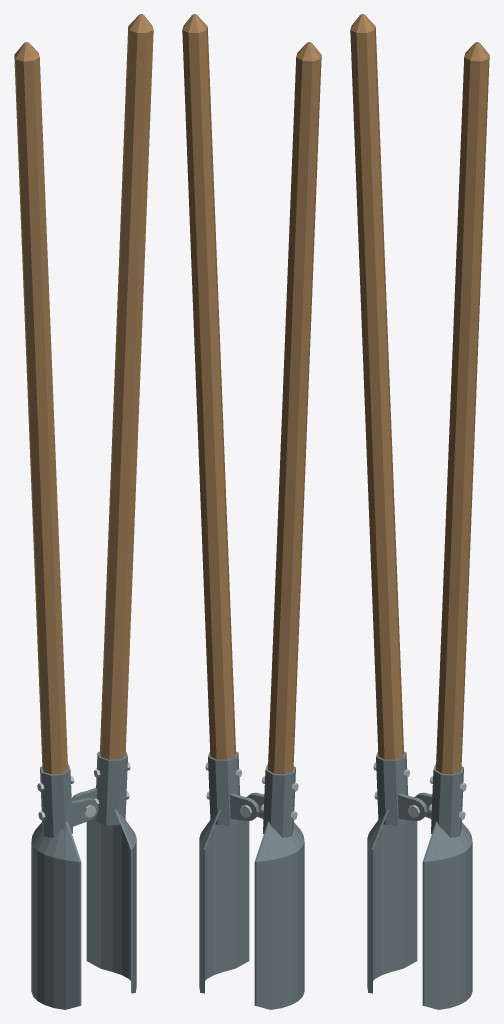
The picture shows the model from 3 angles, left to right: view 1: azimuth 30°, elevation 25°; view 2: azimuth 150°, elevation 25°; view 3: azimuth 330°, elevation 25°; orthographic projection.
Parts seen in each view (by area): view 1: Right_round_wooden_handle, Left_round_wooden_handle, Left_concave_scoop_and_shoulder, Right_concave_scoop_and_shoulder, Right_hollow_steel_socket, Left_hollow_steel_socket, Left_seated_hinge_cheek; view 2: Right_round_wooden_handle, Left_round_wooden_handle, Left_concave_scoop_and_shoulder, Right_concave_scoop_and_shoulder, Left_hollow_steel_socket, Right_hollow_steel_socket, Right_seated_hinge_cheek; view 3: Left_round_wooden_handle, Right_round_wooden_handle, Right_concave_scoop_and_shoulder, Left_concave_scoop_and_shoulder, Right_hollow_steel_socket, Left_hollow_steel_socket, Left_seated_hinge_cheek.
Boxes of the visible parts, <box> form: Right_round_wooden_handle: <box>100,14,153,759</box>; Left_round_wooden_handle: <box>14,42,67,774</box>; Left_concave_scoop_and_shoulder: <box>31,821,81,1009</box>; Right_concave_scoop_and_shoulder: <box>86,809,136,993</box>; Right_hollow_steel_socket: <box>95,751,127,825</box>; Left_hollow_steel_socket: <box>40,764,72,837</box>; Left_seated_hinge_cheek: <box>71,798,98,826</box>; Right_round_wooden_handle: <box>182,14,235,759</box>; Left_round_wooden_handle: <box>268,42,321,774</box>; Left_concave_scoop_and_shoulder: <box>254,821,304,1009</box>; Right_concave_scoop_and_shoulder: <box>199,809,249,993</box>; Left_hollow_steel_socket: <box>263,764,295,837</box>; Right_hollow_steel_socket: <box>208,751,240,825</box>; Right_seated_hinge_cheek: <box>230,793,259,820</box>; Left_round_wooden_handle: <box>350,14,403,759</box>; Right_round_wooden_handle: <box>436,42,489,774</box>; Right_concave_scoop_and_shoulder: <box>422,821,472,1009</box>; Left_concave_scoop_and_shoulder: <box>367,809,417,993</box>; Right_hollow_steel_socket: <box>431,764,463,837</box>; Left_hollow_steel_socket: <box>376,751,408,825</box>; Left_seated_hinge_cheek: <box>398,793,427,820</box>.
Bounding box in the file's own units: 0.2189 × 1.47 × 0.123.
